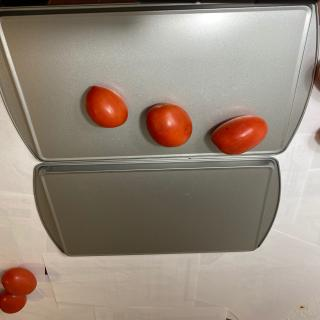Tomato: (211, 115, 268, 155), (146, 102, 193, 148), (85, 86, 128, 128), (1, 268, 37, 296), (0, 291, 27, 314)
